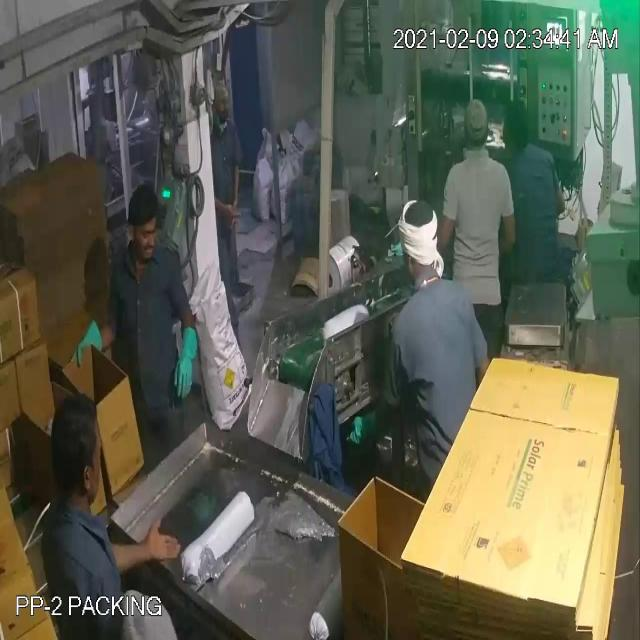gloves: (161, 314, 205, 405), (60, 308, 106, 384)
no-gloves: (100, 506, 188, 580), (205, 170, 242, 237)
